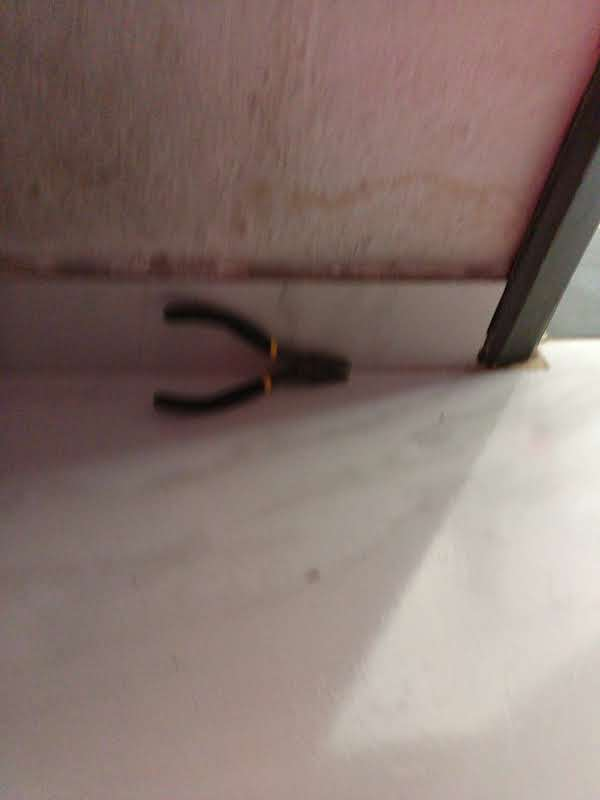Pinzas: (153, 302, 350, 415)
